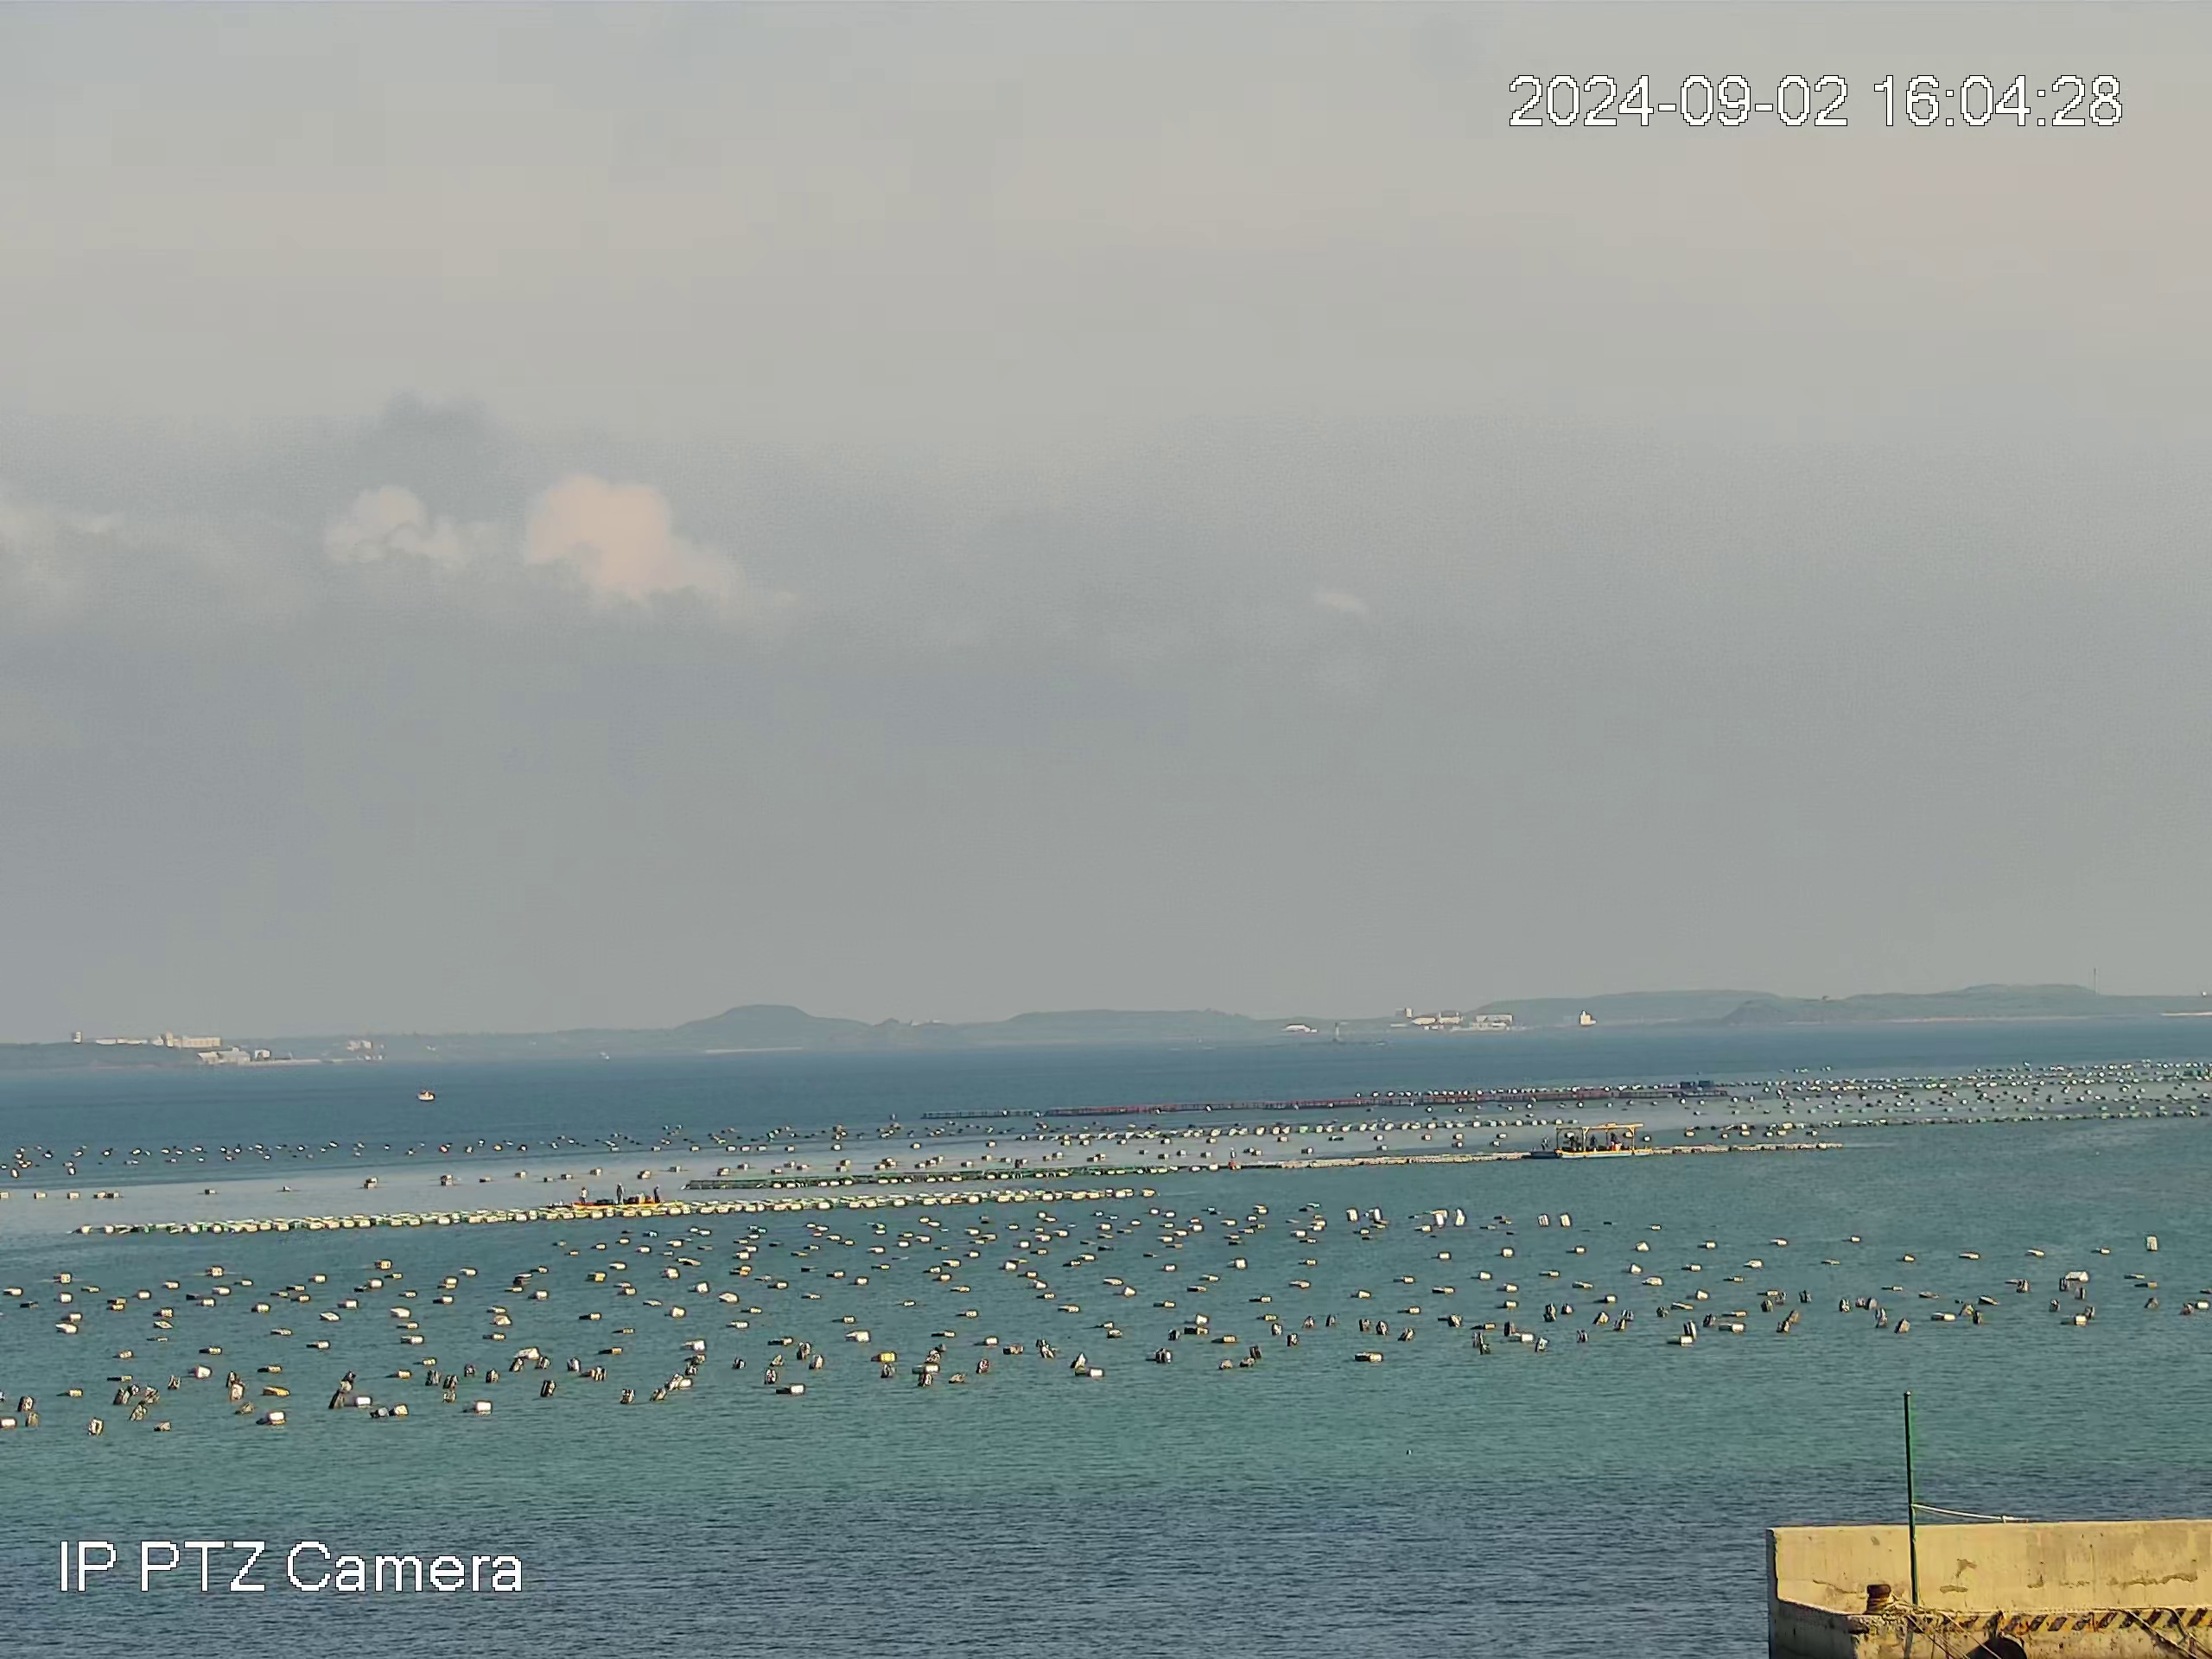boat: (1553, 1122, 1654, 1160), (570, 1182, 664, 1209), (415, 1090, 436, 1103)
